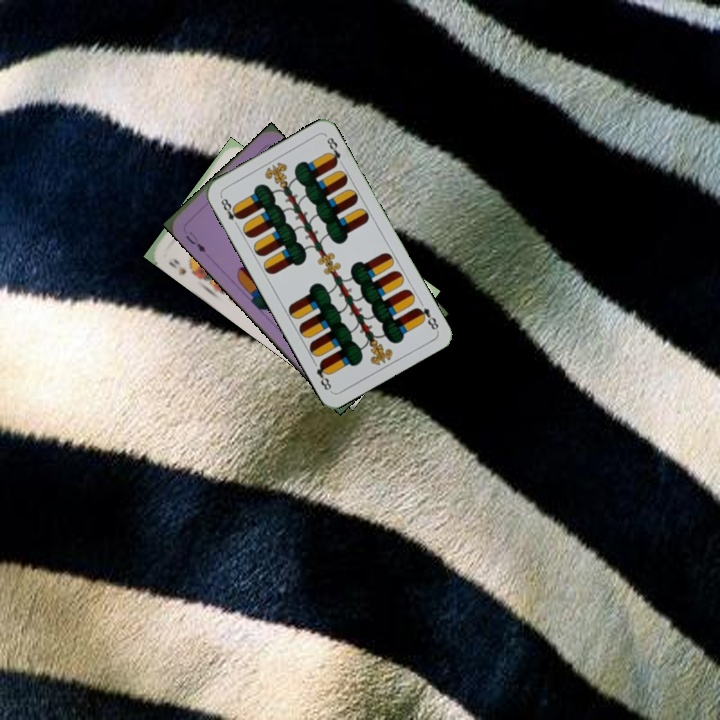E8: (216, 192, 244, 230), (411, 303, 441, 333)
EU: (181, 227, 208, 255)
S9: (165, 255, 199, 278)
